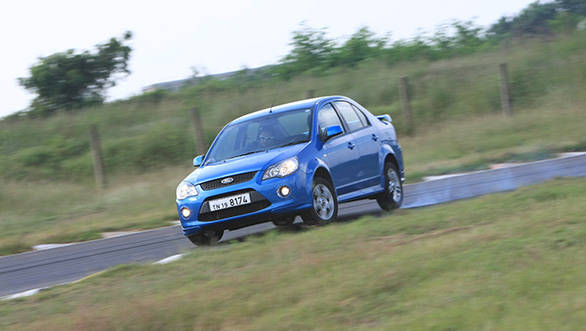Car: (171, 91, 409, 231)
